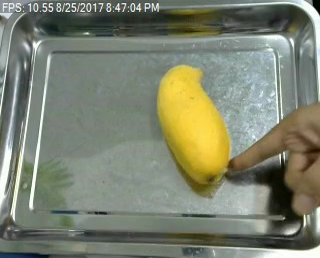Mango: (150, 60, 233, 186)
